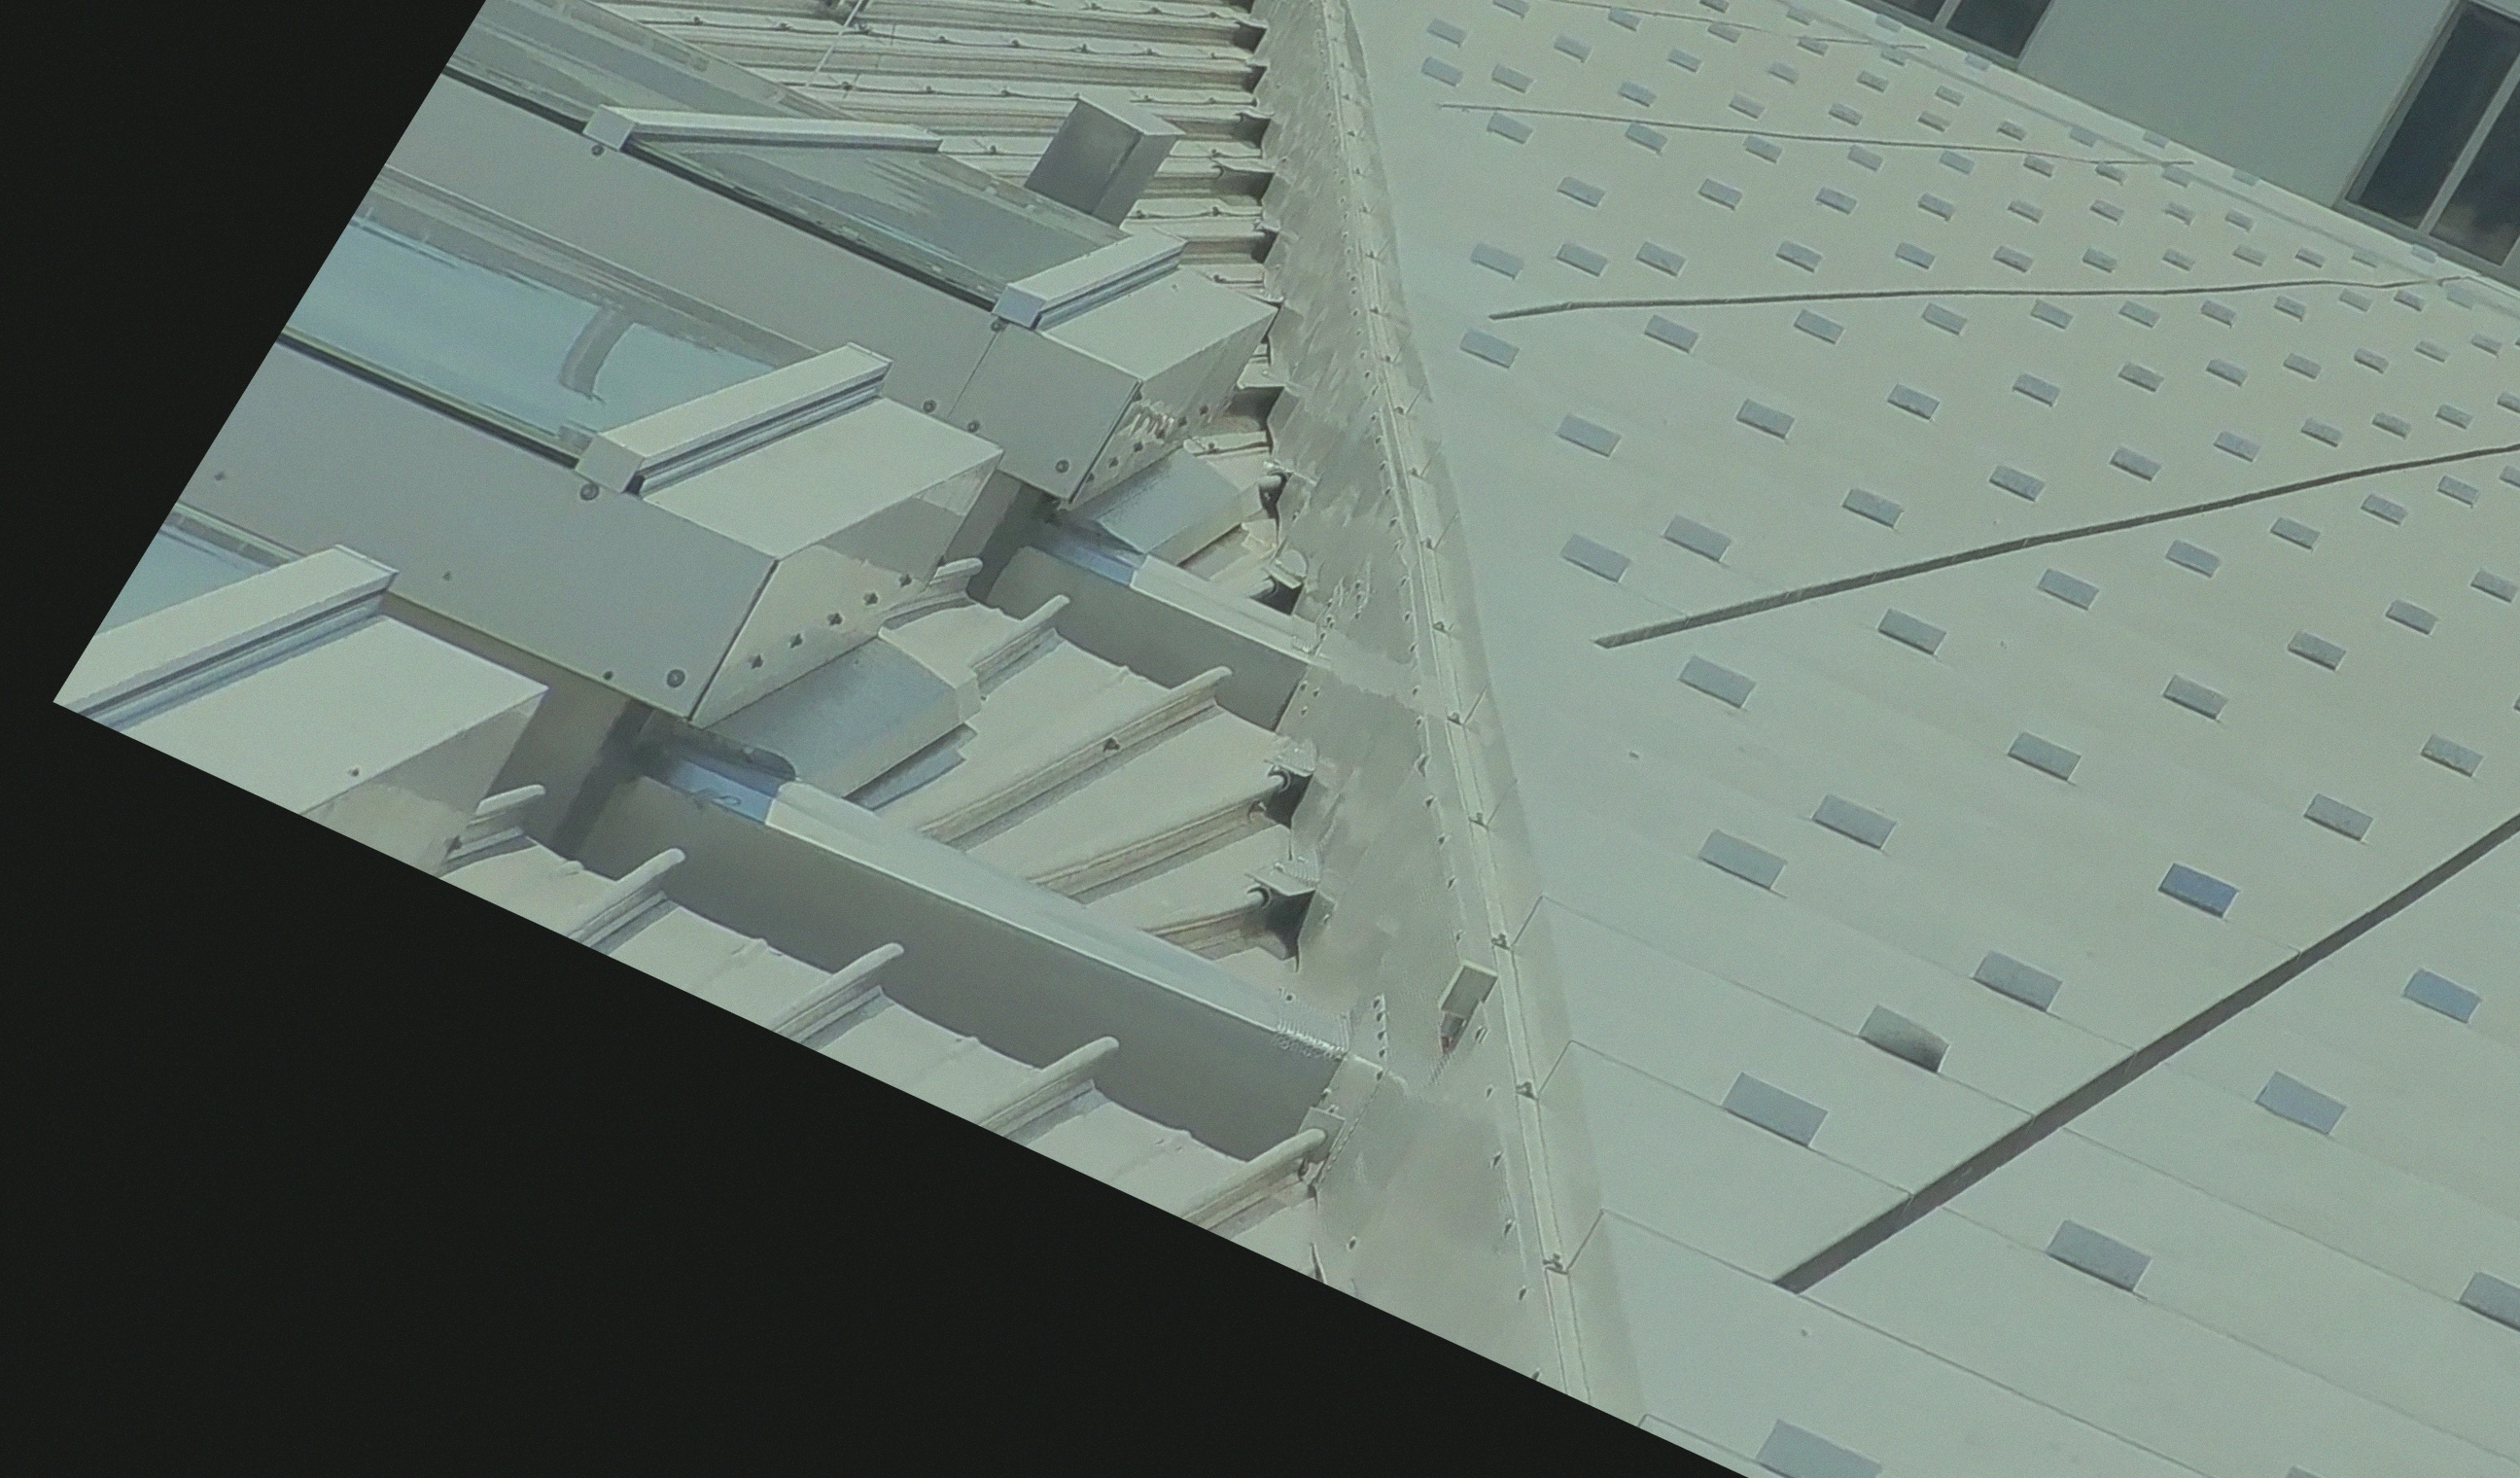Other: (1210, 1281, 1391, 1445)
